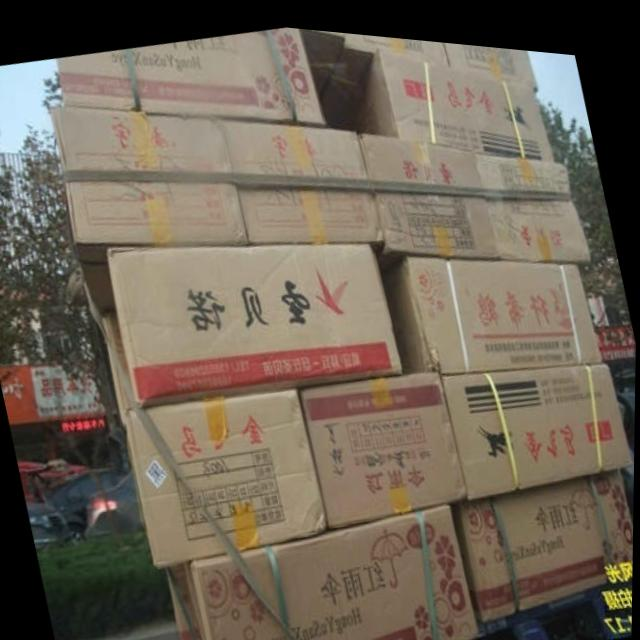box: (106, 236, 402, 402), (185, 491, 481, 640), (50, 102, 248, 310), (121, 379, 328, 564), (452, 456, 635, 613), (438, 348, 631, 491), (299, 362, 468, 521), (377, 247, 602, 363), (54, 22, 327, 116), (219, 112, 386, 259), (348, 37, 556, 151), (357, 126, 501, 265), (474, 143, 592, 251), (321, 26, 449, 120), (443, 34, 538, 78), (96, 308, 134, 418), (299, 23, 342, 92), (167, 559, 200, 640)
